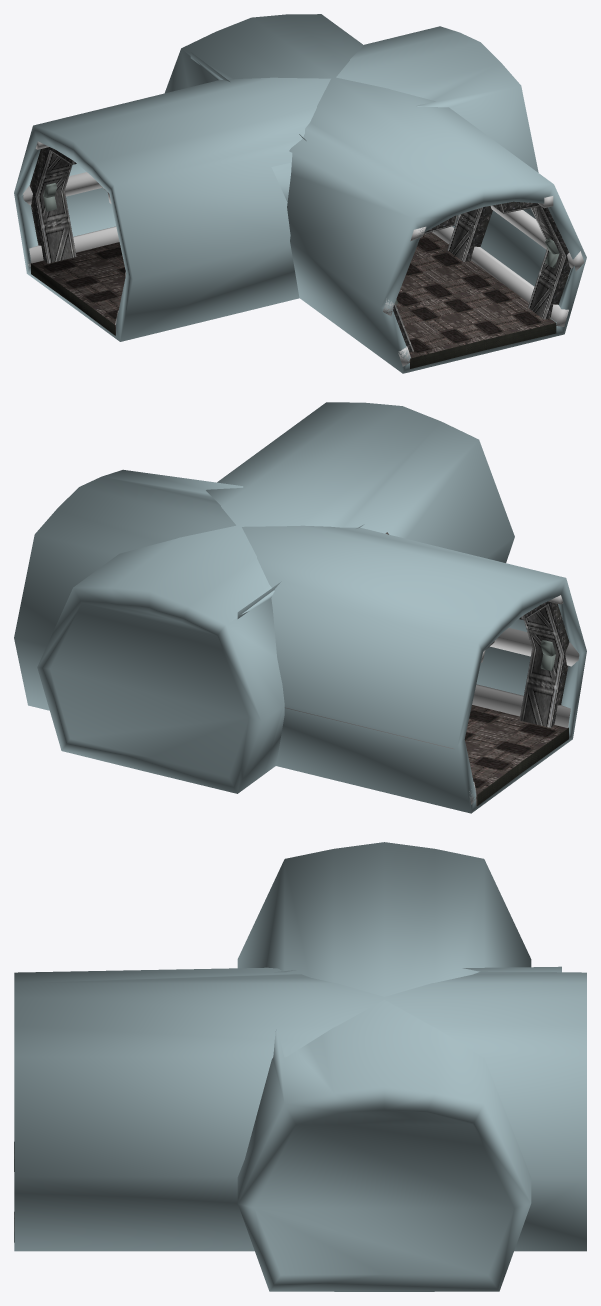
Rendered from lCorridor.fbx.
3 renders of one model, top to bottom at view 1: azimuth 30°, elevation 25°; view 2: azimuth 150°, elevation 25°; view 3: azimuth 270°, elevation 25°, orthographic. The views are drawn at different scales.
Visible parts, largest first — view 1: Mesh_024, Mesh_014, Mesh_027, Mesh_021, Mesh_035, Mesh_013, Mesh_034; view 2: Mesh_014, Mesh_024, Mesh_027, Mesh_035, Mesh_021; view 3: Mesh_014, Mesh_024.
Part boxes in pixels (x1,y1,x2,y2): Mesh_024: (14,26,538,341); Mesh_014: (165,14,586,373); Mesh_027: (31,232,556,368); Mesh_021: (23,141,584,366); Mesh_035: (29,147,107,263); Mesh_013: (393,201,570,352); Mesh_034: (447,206,492,261); Mesh_014: (37,402,514,793); Mesh_024: (14,469,586,813); Mesh_027: (464,705,568,806); Mesh_035: (485,601,569,727); Mesh_021: (284,595,579,804); Mesh_014: (14,966,586,1251); Mesh_024: (237,842,531,1291).
Bounding box in the file's own units: 236 × 94.65 × 233.
